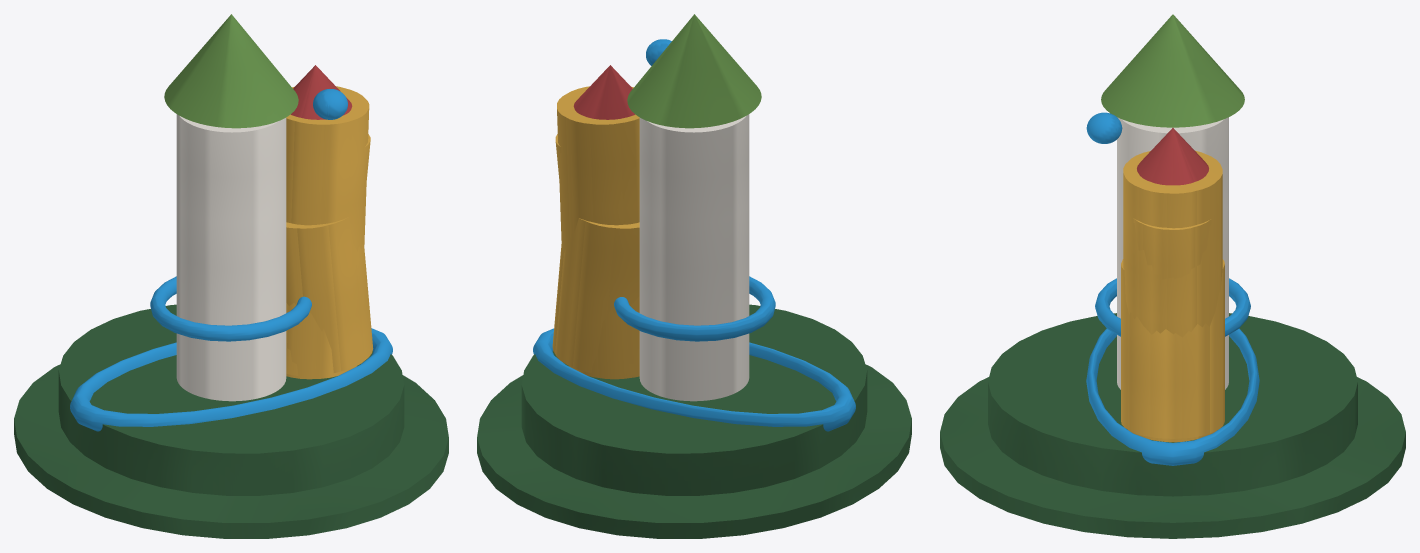
File: 0539_岩石矿物图鉴_黑油山.glb
3 views of the same model, side by side, from view 1: azimuth 30°, elevation 25°; view 2: azimuth 150°, elevation 25°; view 3: azimuth 270°, elevation 25° (orthographic).
Visible parts, largest first — view 1: card_0539; view 2: card_0539; view 3: card_0539.
Part boxes in pixels (left/top/right/bottom): card_0539: left=14, top=14, right=448, bottom=538; card_0539: left=477, top=14, right=911, bottom=538; card_0539: left=940, top=14, right=1405, bottom=538.
Bounding box in the file's own units: 0.8983 × 1 × 0.9729.
